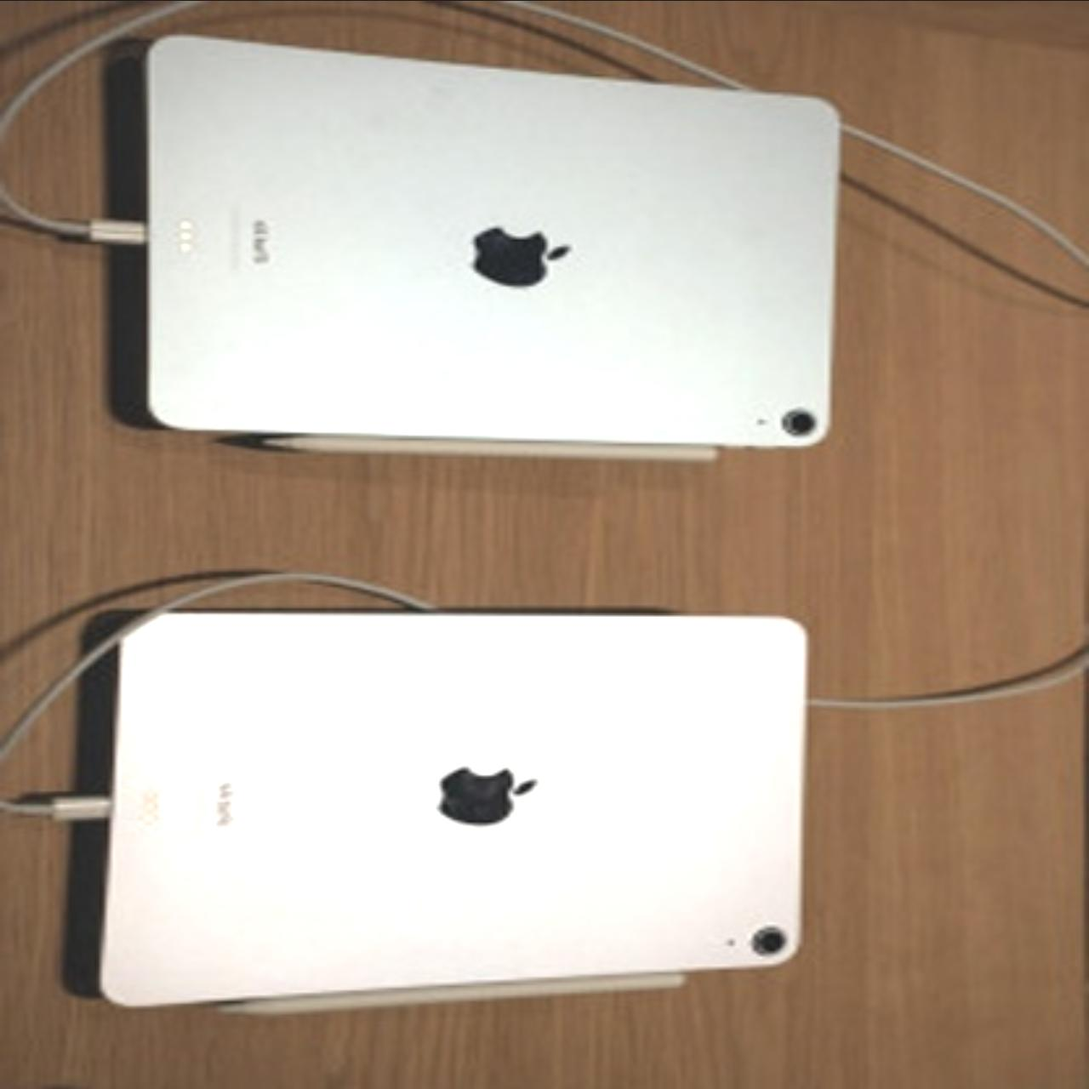Tablet_PC: (86, 21, 858, 469), (66, 584, 819, 1015)
